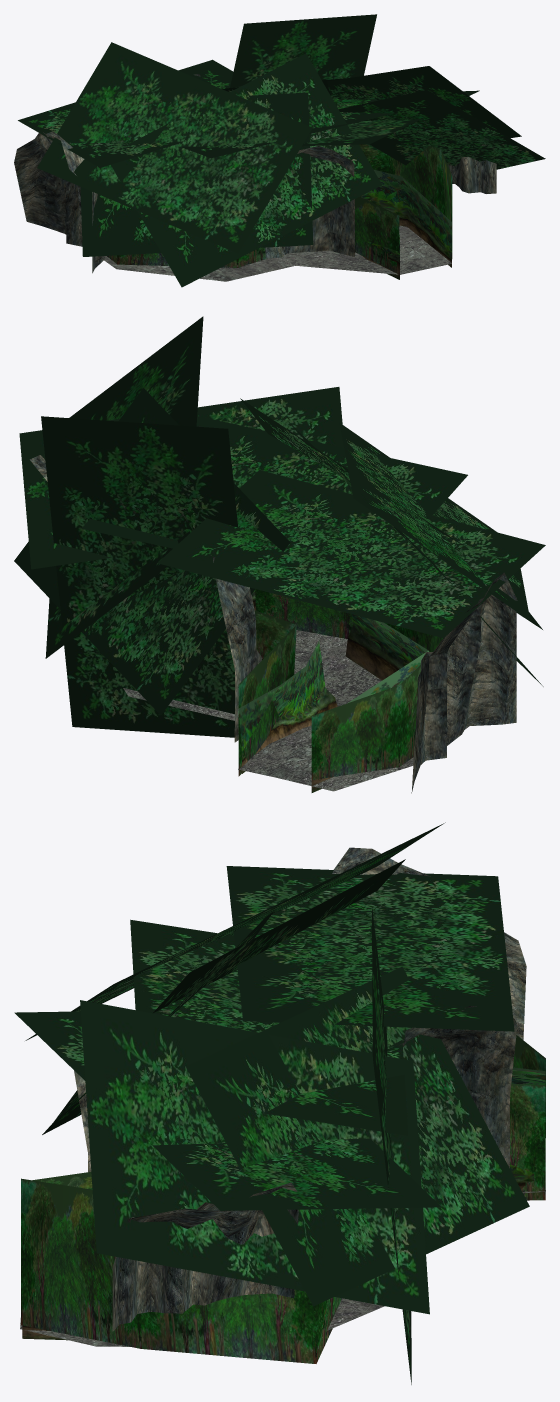
The model's file is tunnel_jungle.fbx.
3 renders of one model, top to bottom at view 1: azimuth 30°, elevation 25°; view 2: azimuth 150°, elevation 25°; view 3: azimuth 270°, elevation 25°, orthographic. The views are drawn at different scales.
Visible parts, largest first — view 1: leaves_canopy33, leaves_canopy22, leaves_canopy26, leaves_canopy21, tree_wall, leaves_canopy32, cliff3, tunnel_floor, leaves_canopy30, nat_wall, leaves_canopy36, cliff2 (+3 smaller); view 2: leaves_canopy21, leaves_canopy36, tree_wall, leaves_canopy29, cliff3, leaves_canopy30, leaves_canopy37, nat_wall, leaves_canopy34, leaves_canopy33, tunnel_floor, cliff5 (+1 smaller); view 3: leaves_canopy30, leaves_canopy29, leaves_canopy36, tree_wall, leaves_canopy37, leaves_canopy34, cliff1, cliff5, leaves_canopy32, leaves_canopy21, leaves_canopy33, cliff3 (+3 smaller).
Part boxes in pixels (left/top/right/bottom): leaves_canopy33: left=37, top=42, right=312, bottom=253; leaves_canopy22: left=111, top=53, right=381, bottom=287; leaves_canopy26: left=338, top=90, right=545, bottom=169; leaves_canopy21: left=230, top=14, right=376, bottom=87; tree_wall: left=107, top=144, right=452, bottom=272; leaves_canopy32: left=80, top=92, right=313, bottom=256; cliff3: left=14, top=131, right=104, bottom=273; tunnel_floor: left=104, top=225, right=451, bottom=281; leaves_canopy30: left=327, top=66, right=521, bottom=138; nat_wall: left=360, top=169, right=451, bottom=279; leaves_canopy36: left=18, top=59, right=241, bottom=167; cliff2: left=265, top=146, right=354, bottom=258; leaves_canopy21: left=41, top=416, right=237, bottom=737; leaves_canopy36: left=157, top=470, right=545, bottom=638; tree_wall: left=238, top=589, right=442, bottom=779; leaves_canopy29: left=14, top=388, right=290, bottom=714; cliff3: left=411, top=572, right=517, bottom=793; leaves_canopy30: left=45, top=316, right=203, bottom=658; leaves_canopy37: left=19, top=387, right=343, bottom=569; nat_wall: left=238, top=590, right=429, bottom=792; leaves_canopy34: left=81, top=416, right=467, bottom=548; leaves_canopy33: left=339, top=422, right=530, bottom=620; tunnel_floor: left=123, top=630, right=469, bottom=791; cliff5: left=212, top=556, right=262, bottom=742; leaves_canopy30: left=80, top=1000, right=429, bottom=1314; leaves_canopy29: left=186, top=967, right=529, bottom=1306; leaves_canopy36: left=226, top=866, right=514, bottom=1031; tree_wall: left=21, top=1035, right=545, bottom=1363; leaves_canopy37: left=14, top=1011, right=441, bottom=1210; leaves_canopy34: left=130, top=919, right=407, bottom=1135; cliff1: left=112, top=1182, right=298, bottom=1331; cliff5: left=396, top=1005, right=517, bottom=1168; leaves_canopy32: left=42, top=859, right=405, bottom=1134; leaves_canopy21: left=372, top=907, right=411, bottom=1384; leaves_canopy33: left=25, top=822, right=445, bottom=1040; cliff3: left=332, top=847, right=526, bottom=1039.
Size of the model in its own units: 23838 by 12606 by 15241.
Materials: 4 (4 with a texture image).
